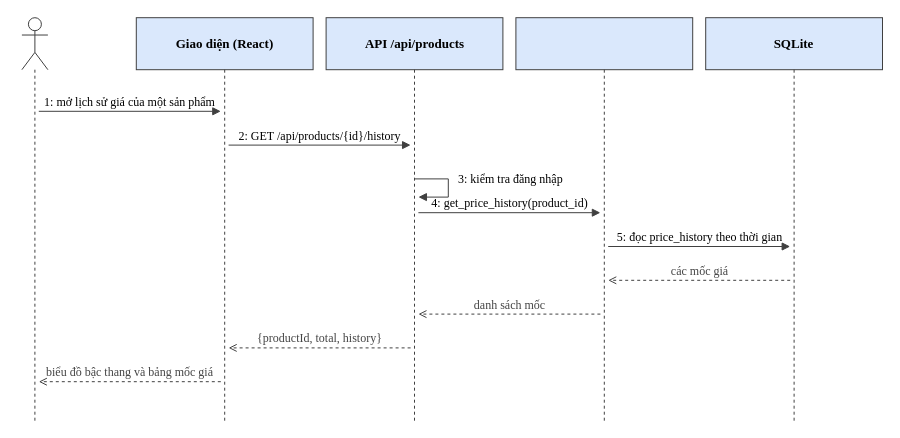
Some shapes in this 900 by 438 pixel diagram are drawn without their labels. The shapes that lost their labels are listed below. From the top down, each one's box as (x1, y1, x2, y2) in pixels, then its label:
(21, 17, 48, 421): Người dùng
(515, 17, 693, 421): ProductRepository
